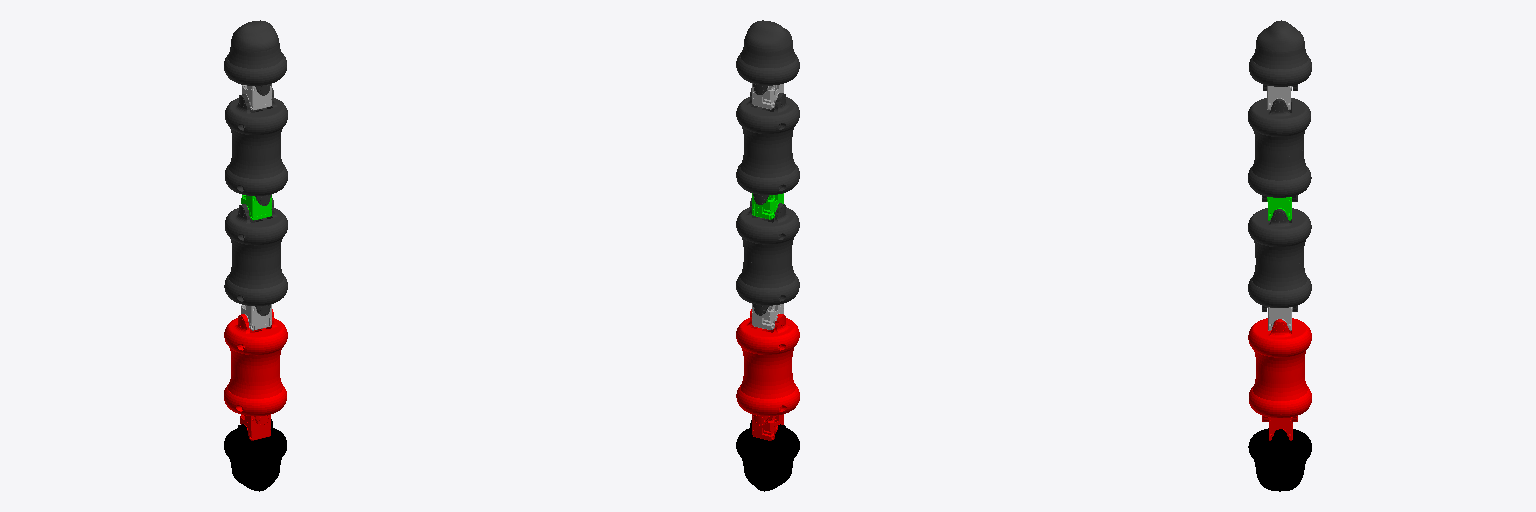
URDF robot description (Robot_Snake_URDF):
<?xml version="1.0" encoding="utf-8"?>
<!-- This URDF was automatically created by SolidWorks to URDF Exporter! Originally created by [author] ([email redacted]) 
     Commit Version: 1.6.0-4-g7f85cfe  Build Version: 1.6.7995.38578
     For more information, please see http://wiki.ros.org/sw_urdf_exporter -->
<robot
  name="Robot_Snake_URDF">
  
   <material name="WHITE_MTL">
    <color rgba="1 0 0.0 1.0"/> <!-- rviz green color -->
  </material>
  
  <link
    name="cabeza">
    <inertial>
      <origin
        xyz="-0.0053245 -0.012546 -0.62044"
        rpy="0 0 0" />
      <mass
        value="0.31953" />
      <inertia
        ixx="0.0003328"
        ixy="-4.2883E-07"
        ixz="-2.1318E-07"
        iyy="0.00032972"
        iyz="-3.6823E-07"
        izz="0.00030897" />
    </inertial>
    <visual>
      <origin
        xyz="0 0 0"
        rpy="0 0 0" />
      <geometry>
        <mesh
          filename="package://Robot_Snake_URDF/meshes/cabeza.STL" />
      </geometry>
      <material
        name="black">
        <color
          rgba="0 0 0 1" />
      </material>
    </visual>
    <collision>
      <origin
        xyz="0 0 0"
        rpy="0 0 0" />
      <geometry>
        <mesh
          filename="package://Robot_Snake_URDF/meshes/cabeza.STL" />
      </geometry>
    </collision>
  </link>
  <link
    name="motor1">
    <inertial>
      <origin
        xyz="-0.012133 0.00057662 -0.00053395"
        rpy="0 0 0" />
      <mass
        value="0.055801" />
      <inertia
        ixx="1.1418E-05"
        ixy="-4.0337E-09"
        ixz="-7.8025E-09"
        iyy="1.5569E-05"
        iyz="-3.4172E-07"
        izz="1.5584E-05" />
    </inertial>
    <visual>
      <origin
        xyz="0 0 0"
        rpy="0 0 0" />
      <geometry>
        <mesh
          filename="package://Robot_Snake_URDF/meshes/motor1.STL" />
      </geometry>
      <material
        name="WHITE_MTL">
      </material>
    </visual>
    <collision>
      <origin
        xyz="0 0 0"
        rpy="0 0 0" />
      <geometry>
        <mesh
          filename="package://Robot_Snake_URDF/meshes/motor1.STL" />
      </geometry>
    </collision>
  </link>
  <joint
    name="cabeza_motor1"
    type="revolute">
    <origin
      xyz="-0.007833 -0.011926 -0.57364"
      rpy="-2.6951 1.563 0.44643" />
    <parent
      link="cabeza" />
    <child
      link="motor1" />
    <axis
      xyz="0 0 1" />
    <limit
      lower="-1.57"
      upper="1.57"
      effort="300"
      velocity="3" />
  </joint>
  <link
    name="cuerpo1">
    <inertial>
      <origin
        xyz="-0.079285 0.0030663 0.0002863"
        rpy="0 0 0" />
      <mass
        value="0.5986" />
      <inertia
        ixx="0.00061574"
        ixy="1.1352E-05"
        ixz="4.3049E-07"
        iyy="0.0013934"
        iyz="1.1026E-06"
        izz="0.0013747" />
    </inertial>
    <visual>
      <origin
        xyz="0 0 0"
        rpy="0 0 0" />
      <geometry>
        <mesh
          filename="package://Robot_Snake_URDF/meshes/cuerpo1.STL" />
      </geometry>
      <material
        name="WHITE_MTL">
      </material>
    </visual>
    <collision>
      <origin
        xyz="0 0 0"
        rpy="0 0 0" />
      <geometry>
        <mesh
          filename="package://Robot_Snake_URDF/meshes/cuerpo1.STL" />
      </geometry>
    </collision>
  </link>
  <joint
    name="motor1_cuerpo1"
    type="revolute">
    <origin
      xyz="-0.024188 -4.3298E-05 3.1222E-05"
      rpy="-1.5708 0 0" />
    <parent
      link="motor1" />
    <child
      link="cuerpo1" />
    <axis
      xyz="0 0 1" />
    <limit
      lower="-1.57"
      upper="1.57"
      effort="300"
      velocity="3" />
  </joint>
  <link
    name="motor2">
    <inertial>
      <origin
        xyz="-0.011868 0.00057823 -0.00053395"
        rpy="0 0 0" />
      <mass
        value="0.055801" />
      <inertia
        ixx="1.1418E-05"
        ixy="-3.4815E-09"
        ixz="-7.8479E-09"
        iyy="1.5569E-05"
        iyz="-3.4172E-07"
        izz="1.5584E-05" />
    </inertial>
    <visual>
      <origin
        xyz="0 0 0"
        rpy="0 0 0" />
      <geometry>
        <mesh
          filename="package://Robot_Snake_URDF/meshes/motor2.STL" />
      </geometry>
      <material
        name="BLACK">
        <color
          rgba="0.74902 0.74902 0.74902 1" />
      </material>
    </visual>
    <collision>
      <origin
        xyz="0 0 0"
        rpy="0 0 0" />
      <geometry>
        <mesh
          filename="package://Robot_Snake_URDF/meshes/motor2.STL" />
      </geometry>
    </collision>
  </link>
  <joint
    name="cuerpo1_motor2"
    type="revolute">
    <origin
      xyz="-0.15897 0.0021812 5.5449E-05"
      rpy="1.5708 -0.00016511 -0.014065" />
    <parent
      link="cuerpo1" />
    <child
      link="motor2" />
    <axis
      xyz="0 0 1" />
    <limit
      lower="-1.57"
      upper="1.57"
      effort="300"
      velocity="3" />
  </joint>
  <link
    name="cuerpo2">
    <inertial>
      <origin
        xyz="-0.079332 -0.0014349 -0.00029684"
        rpy="0 0 0" />
      <mass
        value="0.5986" />
      <inertia
        ixx="0.00061561"
        ixy="4.6451E-06"
        ixz="-5.0868E-07"
        iyy="0.0013935"
        iyz="1.1117E-06"
        izz="0.0013747" />
    </inertial>
    <visual>
      <origin
        xyz="0 0 0"
        rpy="0 0 0" />
      <geometry>
        <mesh
          filename="package://Robot_Snake_URDF/meshes/cuerpo2.STL" />
      </geometry>
      <material
        name="WHITE">
        <color
          rgba="0.25098 0.25098 0.25098 1" />
      </material>
    </visual>
    <collision>
      <origin
        xyz="0 0 0"
        rpy="0 0 0" />
      <geometry>
        <mesh
          filename="package://Robot_Snake_URDF/meshes/cuerpo2.STL" />
      </geometry>
    </collision>
  </link>
  <joint
    name="motor2_cuerpo2"
    type="revolute">
    <origin
      xyz="-0.023922 -4.0084E-05 3.2084E-05"
      rpy="1.5708 0 0" />
    <parent
      link="motor2" />
    <child
      link="cuerpo2" />
    <axis
      xyz="0 0 1" />
    <limit
      lower="-1.57"
      upper="1.57"
      effort="300"
      velocity="3" />
  </joint>
  <link
    name="motor3">
    <inertial>
      <origin
        xyz="-0.011991 0.00057822 -0.00053349"
        rpy="0 0 0" />
      <mass
        value="0.055801" />
      <inertia
        ixx="1.1418E-05"
        ixy="-3.4815E-09"
        ixz="-7.8479E-09"
        iyy="1.5569E-05"
        iyz="-3.4172E-07"
        izz="1.5584E-05" />
    </inertial>
    <visual>
      <origin
        xyz="0 0 0"
        rpy="0 0 0" />
      <geometry>
        <mesh
          filename="package://Robot_Snake_URDF/meshes/motor3.STL" />
      </geometry>
      <material
        name="WHITE_MTL">
        <color
          rgba="0.0 1.0 0.0 1.0" />
      </material>
    </visual>
    <collision>
      <origin
        xyz="0 0 0"
        rpy="0 0 0" />
      <geometry>
        <mesh
          filename="package://Robot_Snake_URDF/meshes/motor3.STL" />
      </geometry>
    </collision>
  </link>
  <joint
    name="cuerpo2_motor3"
    type="revolute">
    <origin
      xyz="-0.15886 0.0010874 -7.6586E-05"
      rpy="-1.5708 0.0013629 -0.0065004" />
    <parent
      link="cuerpo2" />
    <child
      link="motor3" />
    <axis
      xyz="0 0 1" />
    <limit
      lower="-1.57"
      upper="1.57"
      effort="300"
      velocity="3" />
  </joint>
  <link
    name="cuerpo3">
    <inertial>
      <origin
        xyz="-0.079348 -0.0019091 -0.00029677"
        rpy="0 0 0" />
      <mass
        value="0.5986" />
      <inertia
        ixx="0.00061558"
        ixy="-5.8806E-09"
        ixz="-5.1526E-07"
        iyy="0.0013935"
        iyz="1.109E-06"
        izz="0.0013747" />
    </inertial>
    <visual>
      <origin
        xyz="0 0 0"
        rpy="0 0 0" />
      <geometry>
        <mesh
          filename="package://Robot_Snake_URDF/meshes/cuerpo3.STL" />
      </geometry>
      <material
        name="">
        <color
          rgba="0.25098 0.25098 0.25098 1" />
      </material>
    </visual>
    <collision>
      <origin
        xyz="0 0 0"
        rpy="0 0 0" />
      <geometry>
        <mesh
          filename="package://Robot_Snake_URDF/meshes/cuerpo3.STL" />
      </geometry>
    </collision>
  </link>
  <joint
    name="motor3_cuerpo3"
    type="revolute">
    <origin
      xyz="-0.024019 -4.0032E-05 3.2153E-05"
      rpy="1.5708 0 0" />
    <parent
      link="motor3" />
    <child
      link="cuerpo3" />
    <axis
      xyz="0 0 1" />
    <limit
      lower="-1.57"
      upper="1.57"
      effort="300"
      velocity="3" />
  </joint>
  <link
    name="motor4">
    <inertial>
      <origin
        xyz="-0.012 0.00057822 -0.00053348"
        rpy="0 0 0" />
      <mass
        value="0.055801" />
      <inertia
        ixx="1.1418E-05"
        ixy="-3.4815E-09"
        ixz="-7.8479E-09"
        iyy="1.5569E-05"
        iyz="-3.4172E-07"
        izz="1.5584E-05" />
    </inertial>
    <visual>
      <origin
        xyz="0 0 0"
        rpy="0 0 0" />
      <geometry>
        <mesh
          filename="package://Robot_Snake_URDF/meshes/motor4.STL" />
      </geometry>
      <material
        name="">
        <color
          rgba="0.74902 0.74902 0.74902 1" />
      </material>
    </visual>
    <collision>
      <origin
        xyz="0 0 0"
        rpy="0 0 0" />
      <geometry>
        <mesh
          filename="package://Robot_Snake_URDF/meshes/motor4.STL" />
      </geometry>
    </collision>
  </link>
  <joint
    name="cuerpo3_motor4"
    type="revolute">
    <origin
      xyz="-0.15888 0.00013761 -7.6531E-05"
      rpy="-1.5708 0.0018431 -0.00052174" />
    <parent
      link="cuerpo3" />
    <child
      link="motor4" />
    <axis
      xyz="0 0 1" />
    <limit
      lower="-1.57"
      upper="1.57"
      effort="300"
      velocity="3" />
  </joint>
  <link
    name="cola">
    <inertial>
      <origin
        xyz="-0.046936 0.00084233 -0.00057852"
        rpy="0 0 0" />
      <mass
        value="0.31953" />
      <inertia
        ixx="0.00030897"
        ixy="2.7858E-07"
        ixz="3.9503E-07"
        iyy="0.00032972"
        iyz="4.1943E-07"
        izz="0.00033279" />
    </inertial>
    <visual>
      <origin
        xyz="0 0 0"
        rpy="0 0 0" />
      <geometry>
        <mesh
          filename="package://Robot_Snake_URDF/meshes/cola.STL" />
      </geometry>
      <material
        name="">
        <color
          rgba="0.25098 0.25098 0.25098 1" />
      </material>
    </visual>
    <collision>
      <origin
        xyz="0 0 0"
        rpy="0 0 0" />
      <geometry>
        <mesh
          filename="package://Robot_Snake_URDF/meshes/cola.STL" />
      </geometry>
    </collision>
  </link>
  <joint
    name="motor4_cola"
    type="revolute">
    <origin
      xyz="-0.023994 -4E-05 3.2138E-05"
      rpy="1.5708 0 0" />
    <parent
      link="motor4" />
    <child
      link="cola" />
    <axis
      xyz="0 0 1" />
    <limit
      lower="-1.57"
      upper="1.57"
      effort="300"
      velocity="3" />
  </joint>
 
  <transmission name="link_1_trans">
	<type>transmission_interface/SimpleTransmission</type>
	<joint name="joint_1">
		<hardwareInterface>hardware_interface/PositionJointInterface</hardwareInterface>
	</joint>
	<actuator name="link_1_motor">
		<hardwareInterface>hardware_interface/PositionJointInterface</hardwareInterface>
		<mechanicalReduction>1</mechanicalReduction>
	</actuator>
  </transmission>
  
  <transmission name="link_2_trans">
	<type>transmission_interface/SimpleTransmission</type>
	<joint name="joint_2">
		<hardwareInterface>hardware_interface/PositionJointInterface</hardwareInterface>
	</joint>
	<actuator name="link_2_motor">
		<hardwareInterface>hardware_interface/PositionJointInterface</hardwareInterface>
		<mechanicalReduction>1</mechanicalReduction>
	</actuator>
  </transmission>
  
  <transmission name="link_3_trans">
	<type>transmission_interface/SimpleTransmission</type>
	<joint name="joint_3">
		<hardwareInterface>hardware_interface/PositionJointInterface</hardwareInterface>
	</joint>
	<actuator name="link_3_motor">
		<hardwareInterface>hardware_interface/PositionJointInterface</hardwareInterface>
		<mechanicalReduction>1</mechanicalReduction>
	</actuator>
  </transmission>
  
  <transmission name="link_4_trans">
	<type>transmission_interface/SimpleTransmission</type>
	<joint name="joint_4">
		<hardwareInterface>hardware_interface/PositionJointInterface</hardwareInterface>
	</joint>
	<actuator name="link_4_motor">
		<hardwareInterface>hardware_interface/PositionJointInterface</hardwareInterface>
		<mechanicalReduction>1</mechanicalReduction>
	</actuator>
  </transmission>
  
  <transmission name="link_5_trans">
	<type>transmission_interface/SimpleTransmission</type>
	<joint name="joint_5">
		<hardwareInterface>hardware_interface/PositionJointInterface</hardwareInterface>
	</joint>
	<actuator name="link_5_motor">
		<hardwareInterface>hardware_interface/PositionJointInterface</hardwareInterface>
		<mechanicalReduction>1</mechanicalReduction>
	</actuator>
  </transmission>
  
  <transmission name="link_6_trans">
	<type>transmission_interface/SimpleTransmission</type>
	<joint name="joint_6">
		<hardwareInterface>hardware_interface/PositionJointInterface</hardwareInterface>
	</joint>
	<actuator name="link_6_motor">
		<hardwareInterface>hardware_interface/PositionJointInterface</hardwareInterface>
		<mechanicalReduction>1</mechanicalReduction>
	</actuator>
  </transmission>
  
  <transmission name="link_7_trans">
	<type>transmission_interface/SimpleTransmission</type>
	<joint name="joint_7">
		<hardwareInterface>hardware_interface/PositionJointInterface</hardwareInterface>
	</joint>
	<actuator name="link_7_motor">
		<hardwareInterface>hardware_interface/PositionJointInterface</hardwareInterface>
		<mechanicalReduction>1</mechanicalReduction>
	</actuator>
  </transmission>
  
  <transmission name="link_8_trans">
	<type>transmission_interface/SimpleTransmission</type>
	<joint name="joint_8">
		<hardwareInterface>hardware_interface/PositionJointInterface</hardwareInterface>
	</joint>
	<actuator name="link_8_motor">
		<hardwareInterface>hardware_interface/PositionJointInterface</hardwareInterface>
		<mechanicalReduction>1</mechanicalReduction>
	</actuator>
  </transmission>
  
  <!--ESTALINEAFUECOMENTADA<gazebo>
	 <plugin name="control"filename="libgazebo_ros_control.so">
	<robotNamespace>/</robotNamespace>
	</plugin>
  </gazebo> -->
 
   <gazebo reference="cabeza">
	<material>Gazebo/Green</material>
    	<mu1>0.2</mu1>
    	<mu2>0.2</mu2>
	<selfCollide>true</selfCollide>
  </gazebo>
 
  <gazebo reference="motor1">
      	<material>Gazebo/Gray</material>
    	<mu1>0.2</mu1>
    	<mu2>0.2</mu2>	
	<selfCollide>true</selfCollide>
  </gazebo>
  
   <gazebo reference="cuerpo1">
      	<material>Gazebo/Green</material>
    	<mu1>0.2</mu1>
    	<mu2>0.2</mu2>	   
	<selfCollide>true</selfCollide>
  </gazebo>
  
  <gazebo reference="motor2">
	<selfCollide>true</selfCollide>
      	<material>Gazebo/Gray</material>
    	<mu1>0.2</mu1>
    	<mu2>0.2</mu2>	   
	<selfCollide>true</selfCollide>	
  </gazebo>
  
  <gazebo reference="cuerpo2">
	<material>Gazebo/Green</material>
    	<mu1>0.2</mu1>
    	<mu2>0.2</mu2>
    	<selfCollide>true</selfCollide>
  </gazebo>
 
  <gazebo reference="motor3">
	<material>Gazebo/Gray</material>
    	<mu1>0.2</mu1>
    	<mu2>0.2</mu2>
    	<selfCollide>true</selfCollide>
  </gazebo>

  <gazebo reference="cuerpo3">
  	<material>Gazebo/Green</material>
    	<mu1>0.2</mu1>
    	<mu2>0.2</mu2>
	<selfCollide>true</selfCollide>
  </gazebo>
  
  <gazebo reference="motor4">
	<material>Gazebo/Gray</material>
    	<mu1>0.2</mu1>
    	<mu2>0.2</mu2>
    	<selfCollide>true</selfCollide>
  </gazebo>
  
  <gazebo reference="cola">
	<material>Gazebo/Green</material>
    	<mu1>0.2</mu1>
    	<mu2>0.2</mu2>
	<selfCollide>true</selfCollide>
  </gazebo>
  
 
</robot>

--- Render facts (derived) ---
3 views of the same robot in one strip: view 1: azimuth 30°, elevation 25°; view 2: azimuth 150°, elevation 25°; view 3: azimuth 270°, elevation 25° (orthographic).
Model Robot_Snake_URDF with 9 links and 8 joints (8 revolute), rooted at cabeza, posed every joint at zero.
Visible links, largest first — view 1: cuerpo1, cuerpo3, cuerpo2, cola, cabeza; view 2: cuerpo2, cuerpo1, cuerpo3, cola, cabeza; view 3: cuerpo1, cuerpo3, cuerpo2, cola, cabeza.
Boxes of the visible links, <box> form: cuerpo1: <box>224,309,287,425</box>; cuerpo3: <box>225,88,287,205</box>; cuerpo2: <box>224,198,287,315</box>; cola: <box>224,20,286,95</box>; cabeza: <box>224,419,286,491</box>; cuerpo2: <box>736,198,799,315</box>; cuerpo1: <box>736,309,799,425</box>; cuerpo3: <box>736,88,799,204</box>; cola: <box>736,20,799,94</box>; cabeza: <box>736,420,799,491</box>; cuerpo1: <box>1248,318,1311,421</box>; cuerpo3: <box>1248,98,1311,201</box>; cuerpo2: <box>1248,208,1311,311</box>; cola: <box>1249,20,1311,90</box>; cabeza: <box>1248,428,1311,491</box>.
Size in the robot's own frame: 0.0969 by 0.0975 by 0.7711 metres.
Meshes: 9 distinct files referenced, 9 mesh visuals loaded (9 binary STL).
